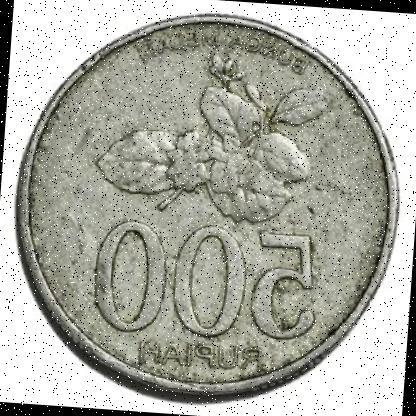coin_500_e2003: (14, 16, 401, 401)
